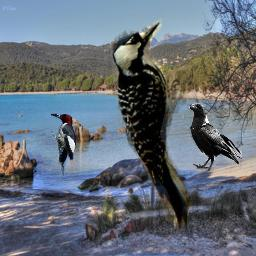Crow: (187, 102, 242, 172)
Woodpecker: (102, 15, 208, 247), (51, 113, 76, 176)
